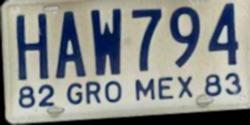License_Plate: (8, 0, 250, 118)
